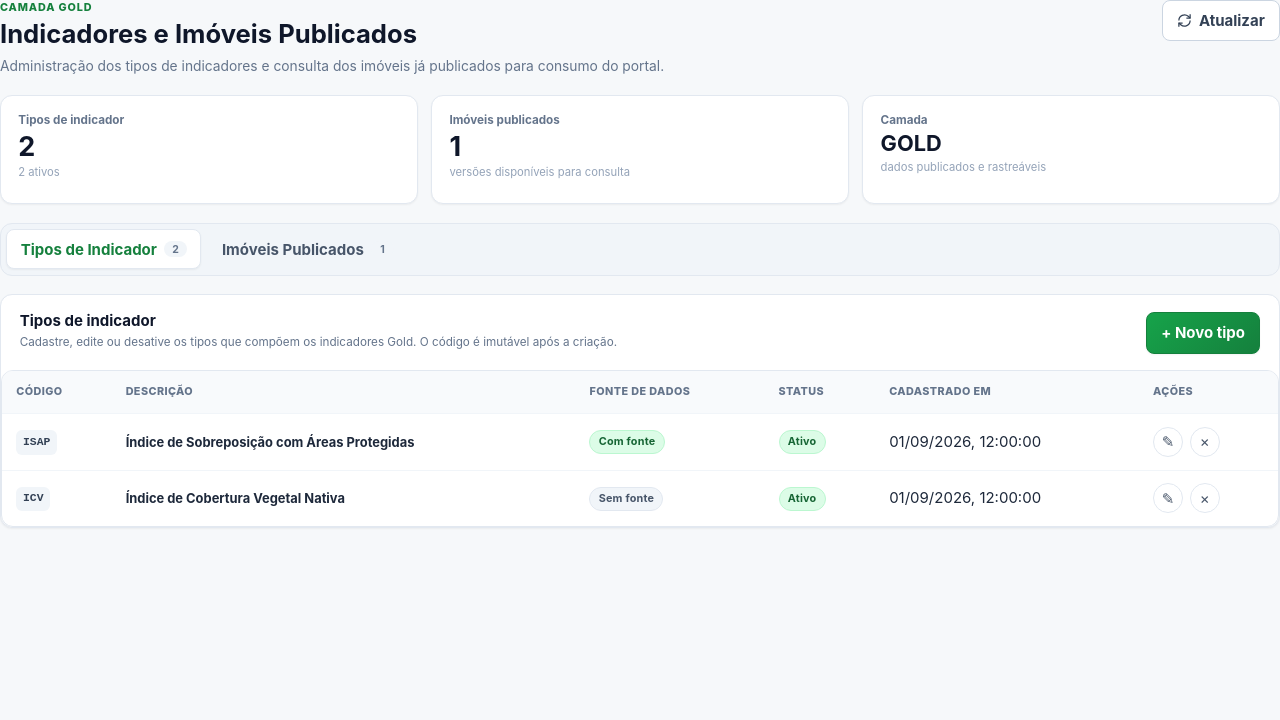
Test case: GoldView › abre a edição preenchida e mantém o código bloqueado
Click the button named "Editar tipo de indicador" at (1168, 442), box [1153,427,1183,457]
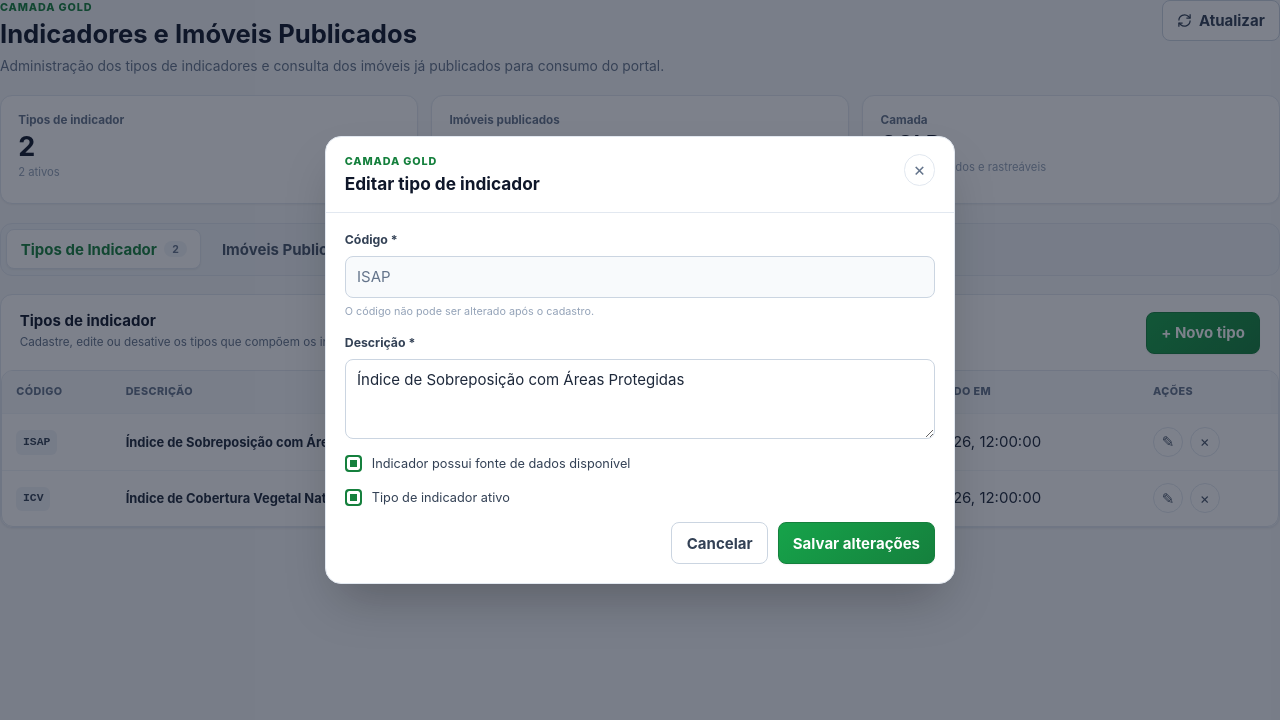
Now the field with id "input-codigo" holds "ISAP", box [345,256,935,298]
Now the field with id "input-codigo" is disabled, box [345,256,935,298]
Now the text box with id "input-descricao" holds "Índice de Sobreposição com Áreas Protegidas", box [345,359,935,439]
